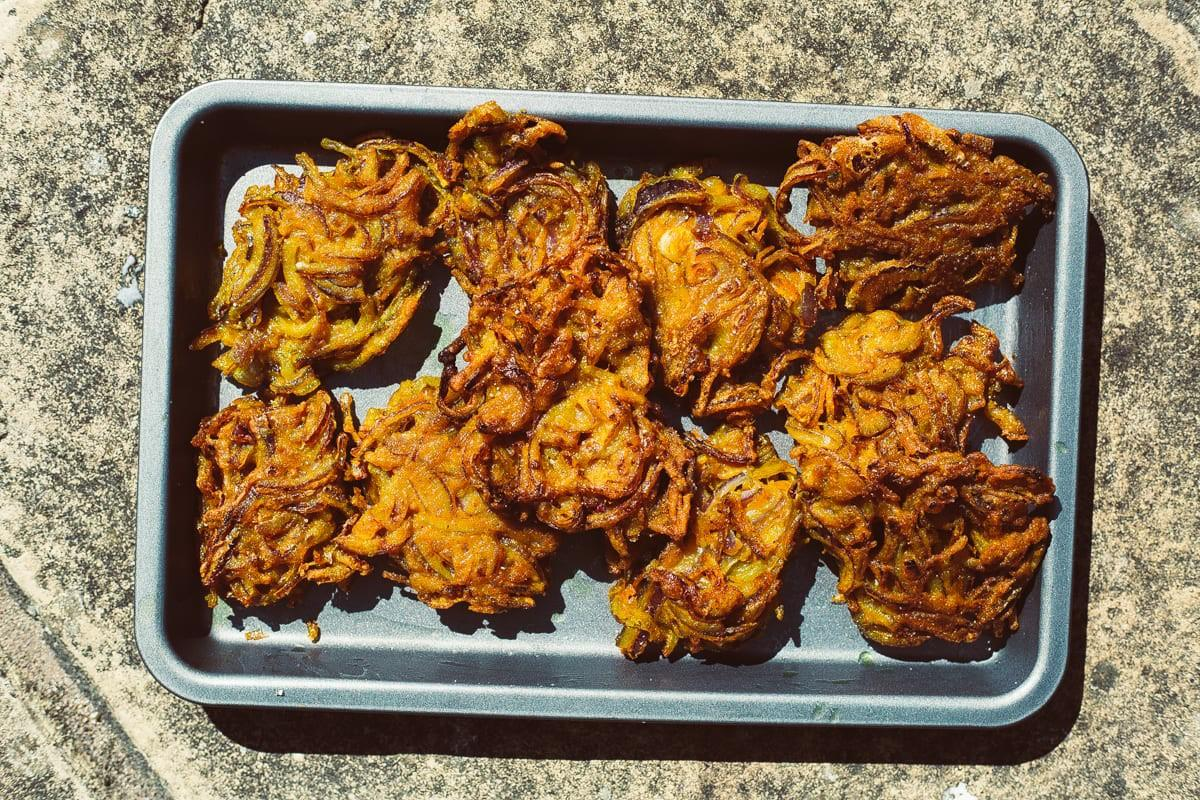OnionPakoda: (186, 114, 1062, 677)
